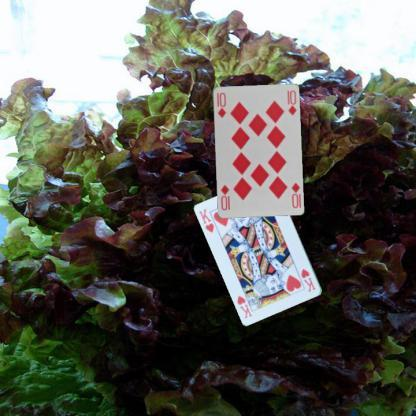10d: (289, 180, 301, 210), (214, 90, 226, 119)
Kh: (197, 206, 216, 234), (298, 266, 316, 293)
